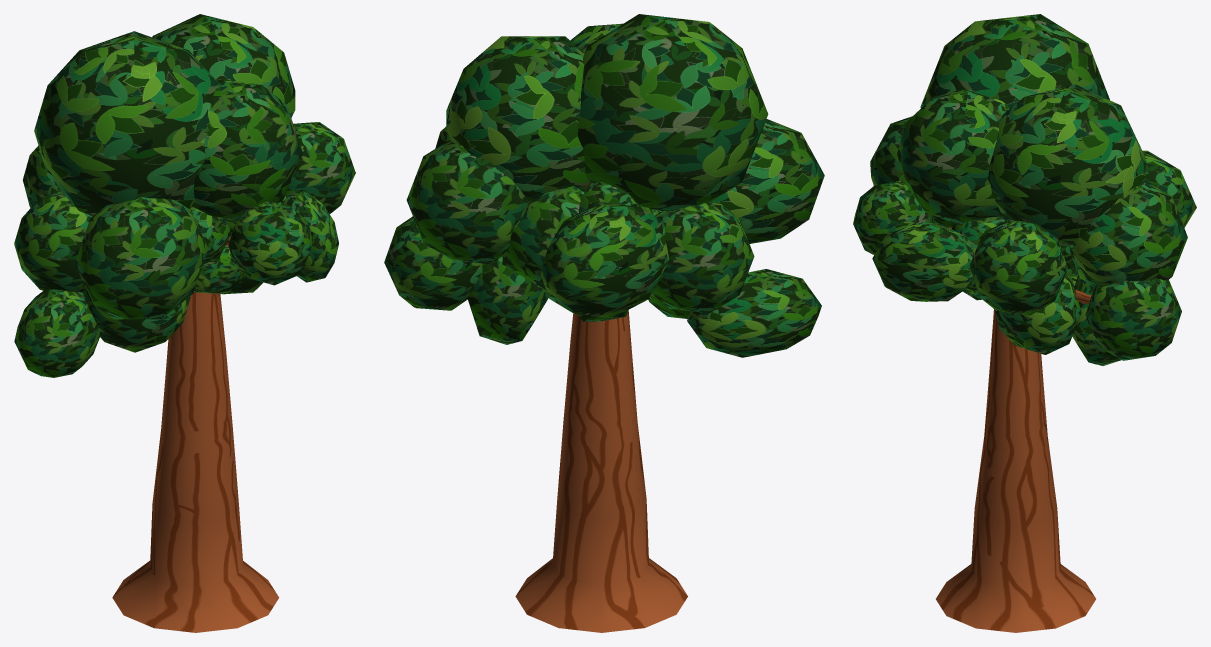
Rendered from Tree_.fbx.
3 renders of one model, left to right at view 1: azimuth 30°, elevation 25°; view 2: azimuth 150°, elevation 25°; view 3: azimuth 270°, elevation 25°, orthographic. The views are drawn at different scales.
Visible parts, largest first — view 1: Cylinder001; view 2: Cylinder001; view 3: Cylinder001.
Part boxes in pixels (x1=…): Cylinder001: x1=14, y1=14, x2=355, y2=632; Cylinder001: x1=384, y1=14, x2=824, y2=632; Cylinder001: x1=853, y1=14, x2=1196, y2=632.
Bounding box in the file's own units: 3.52 × 5.56 × 3.15.
